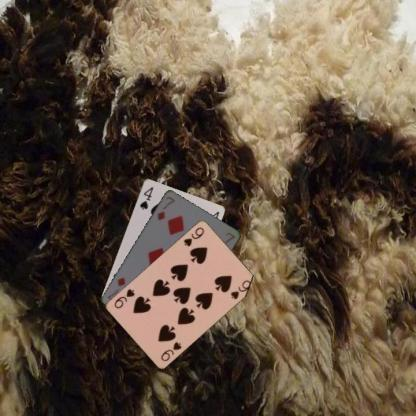4s: (136, 184, 154, 211)
7d: (154, 194, 176, 222)
9s: (157, 339, 183, 362), (181, 224, 205, 248)
